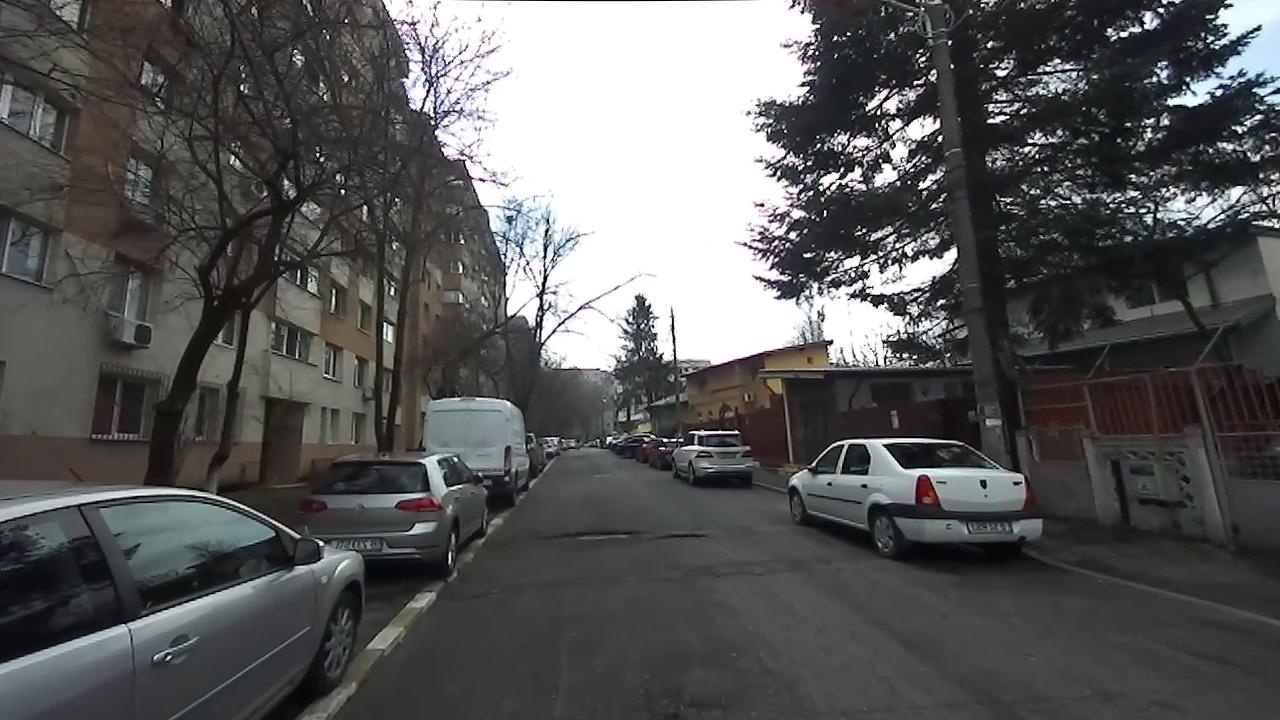pothole: (652, 694, 733, 718), (545, 527, 641, 544), (655, 528, 708, 541)
